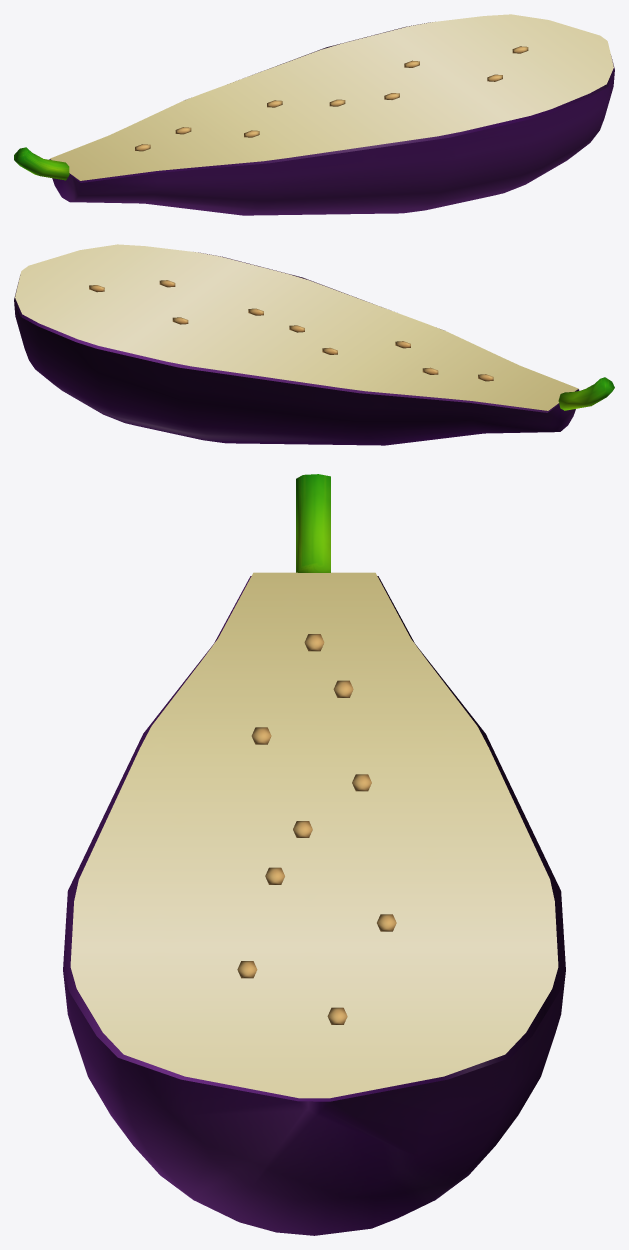
Rendered from NP_Eggplant_CutHalf_LOD1.fbx.
The picture shows the model from 3 angles, top to bottom: view 1: azimuth 30°, elevation 25°; view 2: azimuth 150°, elevation 25°; view 3: azimuth 270°, elevation 25°; orthographic projection. The views are drawn at different scales.
Parts seen in each view (by area): view 1: NP_Eggplant_CutHalf.001; view 2: NP_Eggplant_CutHalf.001; view 3: NP_Eggplant_CutHalf.001.
Boxes of the visible parts, x1=… form: NP_Eggplant_CutHalf.001: x1=14, y1=14, x2=614, y2=215; NP_Eggplant_CutHalf.001: x1=14, y1=244, x2=614, y2=445; NP_Eggplant_CutHalf.001: x1=63, y1=474, x2=565, y2=1235.
Bounding box in the file's own units: 40.42 × 9.62 × 14.96.
